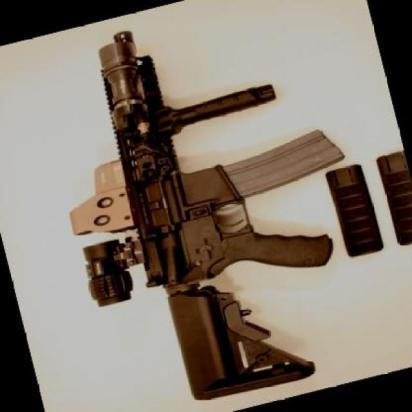Gun: (19, 0, 379, 412)
